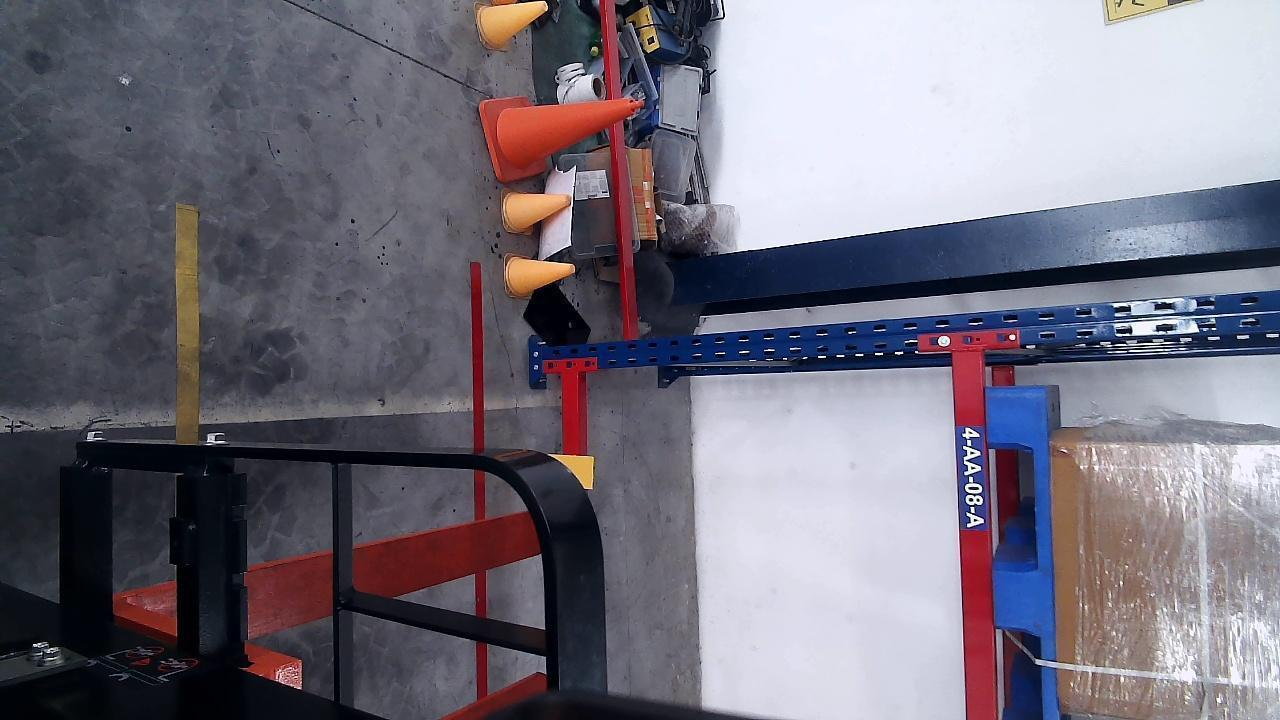red_line: (469, 260, 491, 701)
yellow_line: (174, 202, 202, 440)
